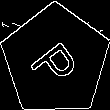P_NE: (25, 31, 85, 90)
